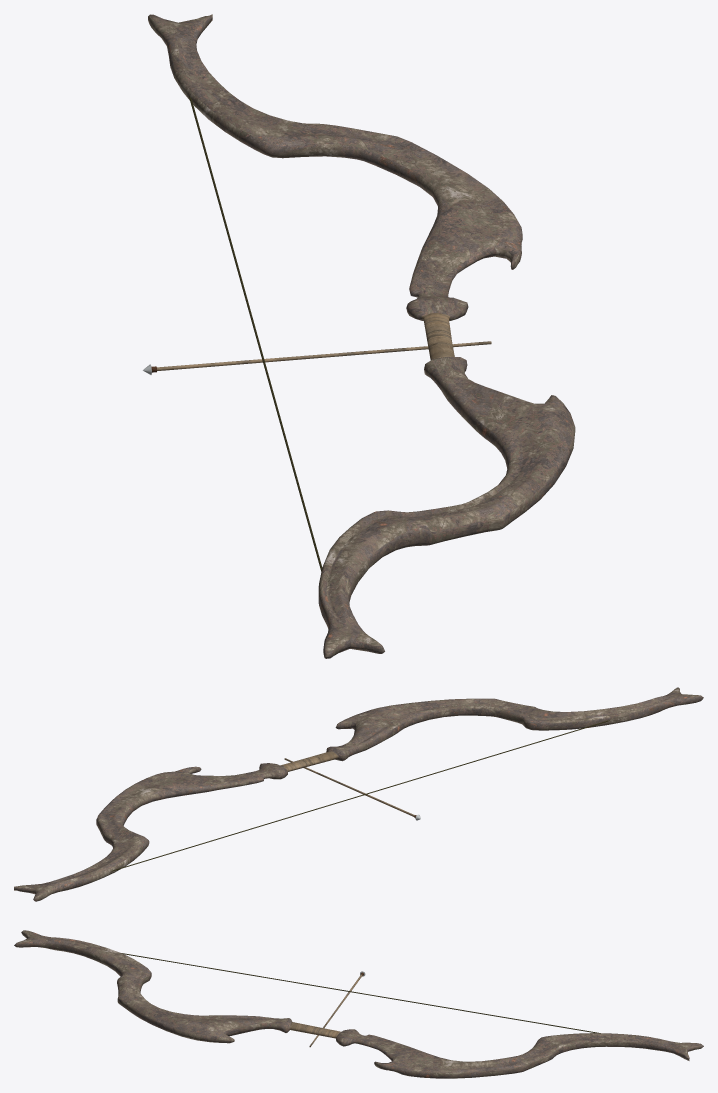
Rendered from arcus-bow.web.glb.
3 renders of one model, top to bottom at view 1: azimuth 30°, elevation 25°; view 2: azimuth 150°, elevation 25°; view 3: azimuth 270°, elevation 25°, orthographic. The views are drawn at different scales.
Visible parts, largest first — view 1: Cube.001, Cylinder.003; view 2: Cube.001, Cylinder.003; view 3: Cube.001, Cylinder.003.
Part boxes in pixels (box(x1,y1,x2,y2)): Cube.001: box(148, 14, 575, 658); Cylinder.003: box(189, 96, 322, 571); Cube.001: box(14, 687, 703, 901); Cylinder.003: box(111, 720, 609, 871); Cube.001: box(14, 930, 703, 1078); Cylinder.003: box(122, 953, 600, 1033).
Size of the model in its own units: 2.92 by 0.2077 by 5.87.
Materials: 5 (5 with a texture image).
